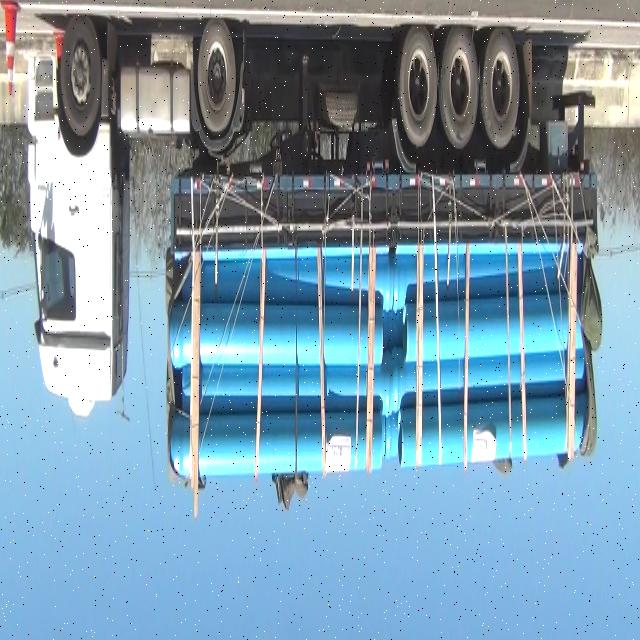-axle: (396, 21, 438, 150), (60, 19, 101, 130), (442, 25, 478, 149), (481, 31, 519, 148), (198, 25, 234, 132)
